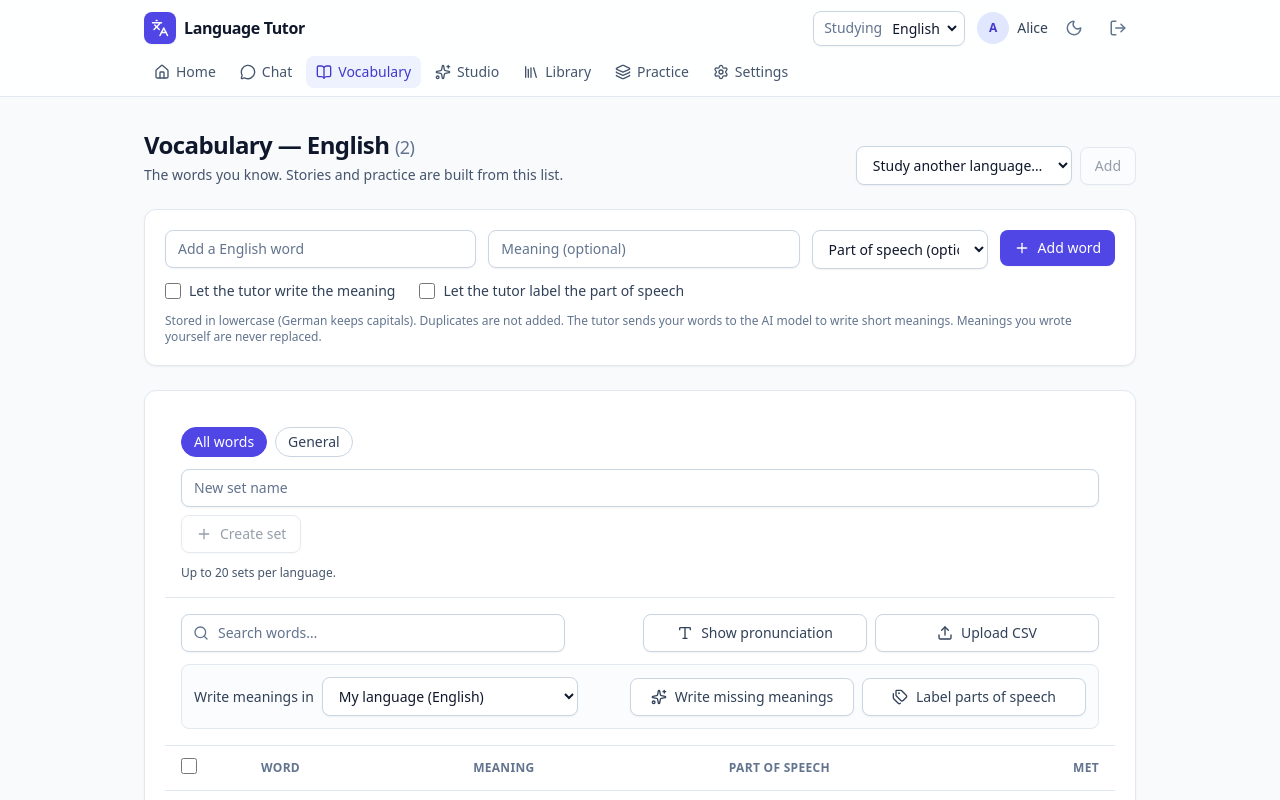
Scenario: vocabulary page › cancelling the confirmation deletes nothing (button and backdrop)
Click the checkbox named "Select all on this page": x=189, y=766 top-left (181, 758), bottom-right (197, 774)
(page scrolled)
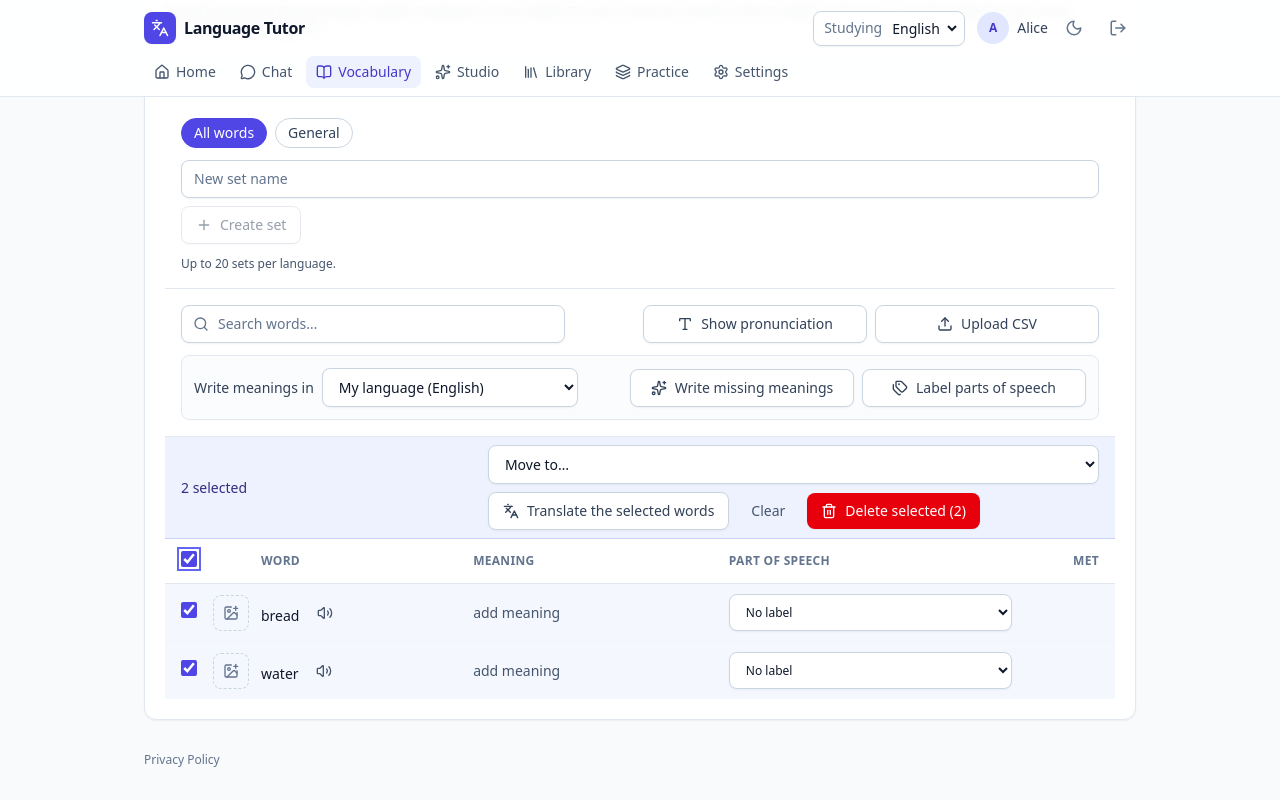
Click the button "Delete selected (2)": x=894, y=511 top-left (807, 493), bottom-right (980, 529)
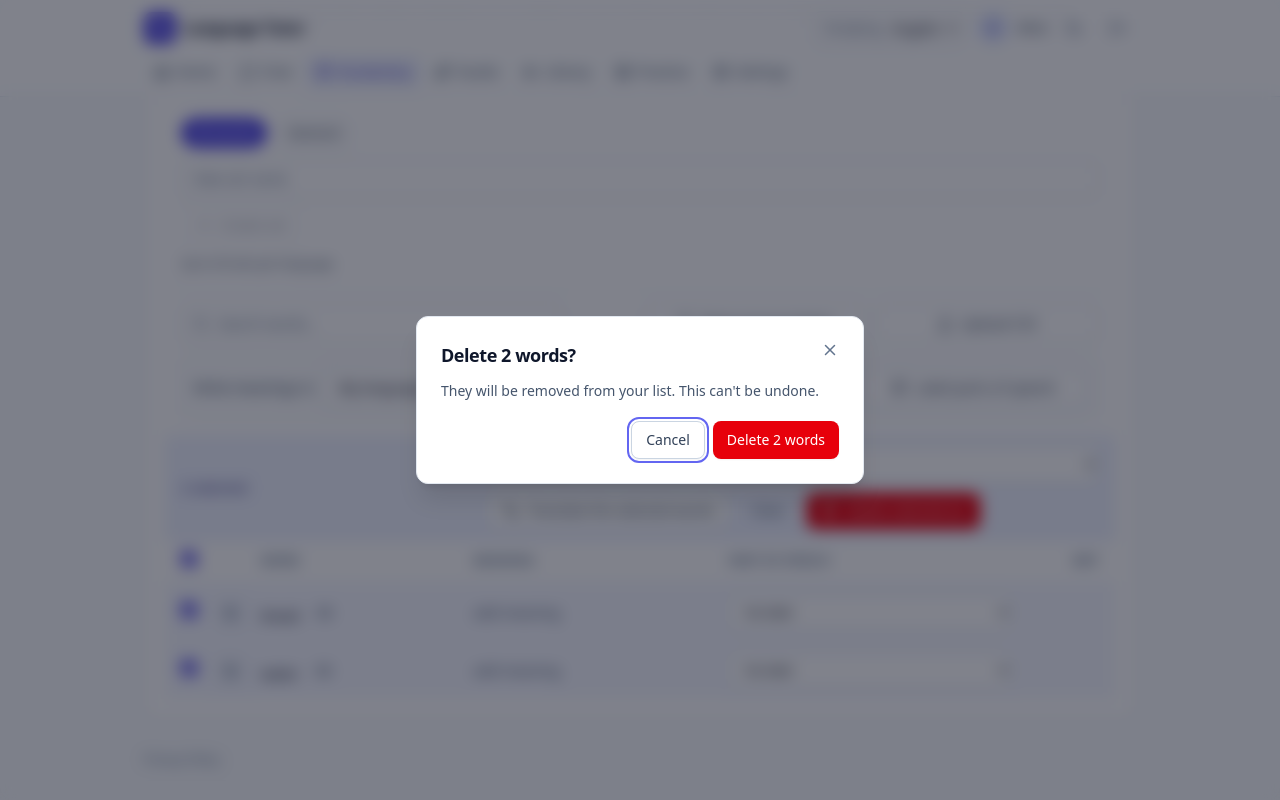
expect the heading "Delete 2 words?" is shown: met, box top-left (441, 341), bottom-right (576, 369)
Click the button "Cancel": x=668, y=440 top-left (631, 421), bottom-right (705, 459)
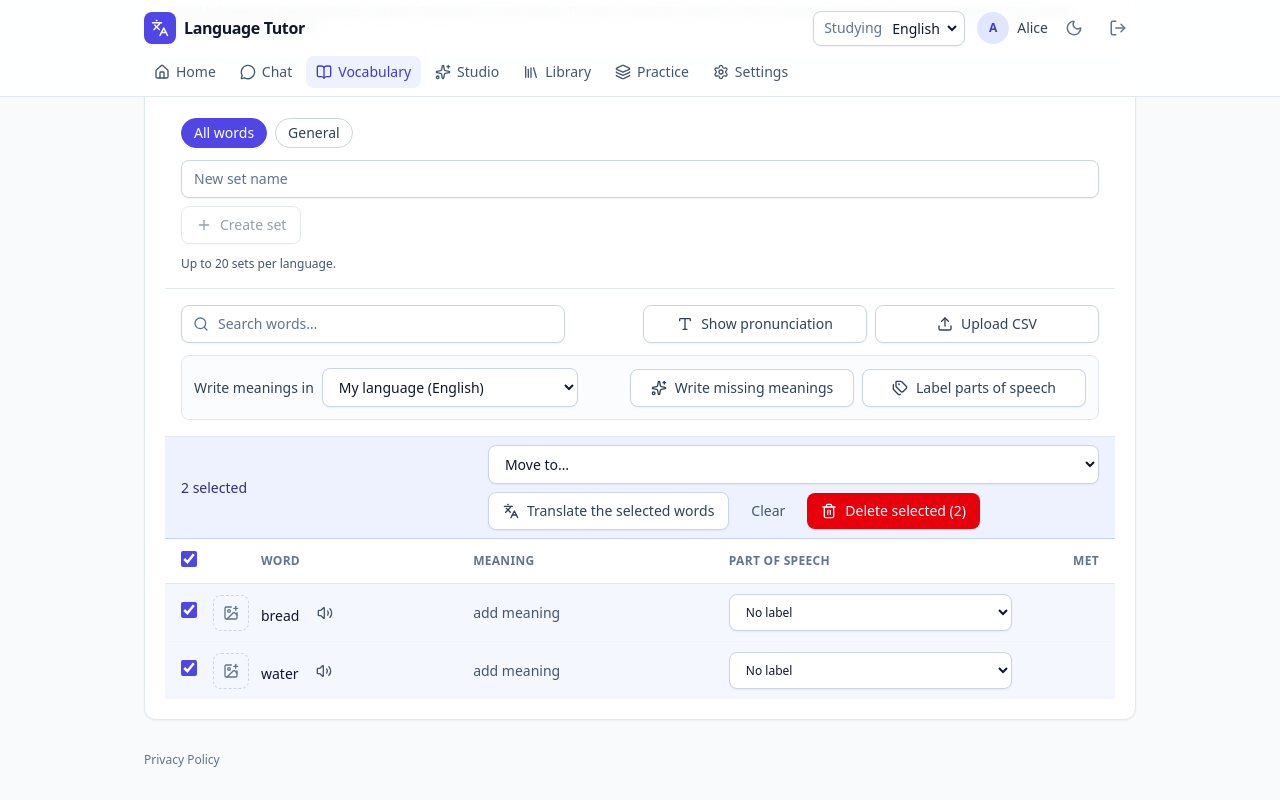
expect the dialog is gone: met
Click the button "Delete selected (2)": x=894, y=511 top-left (807, 493), bottom-right (980, 529)
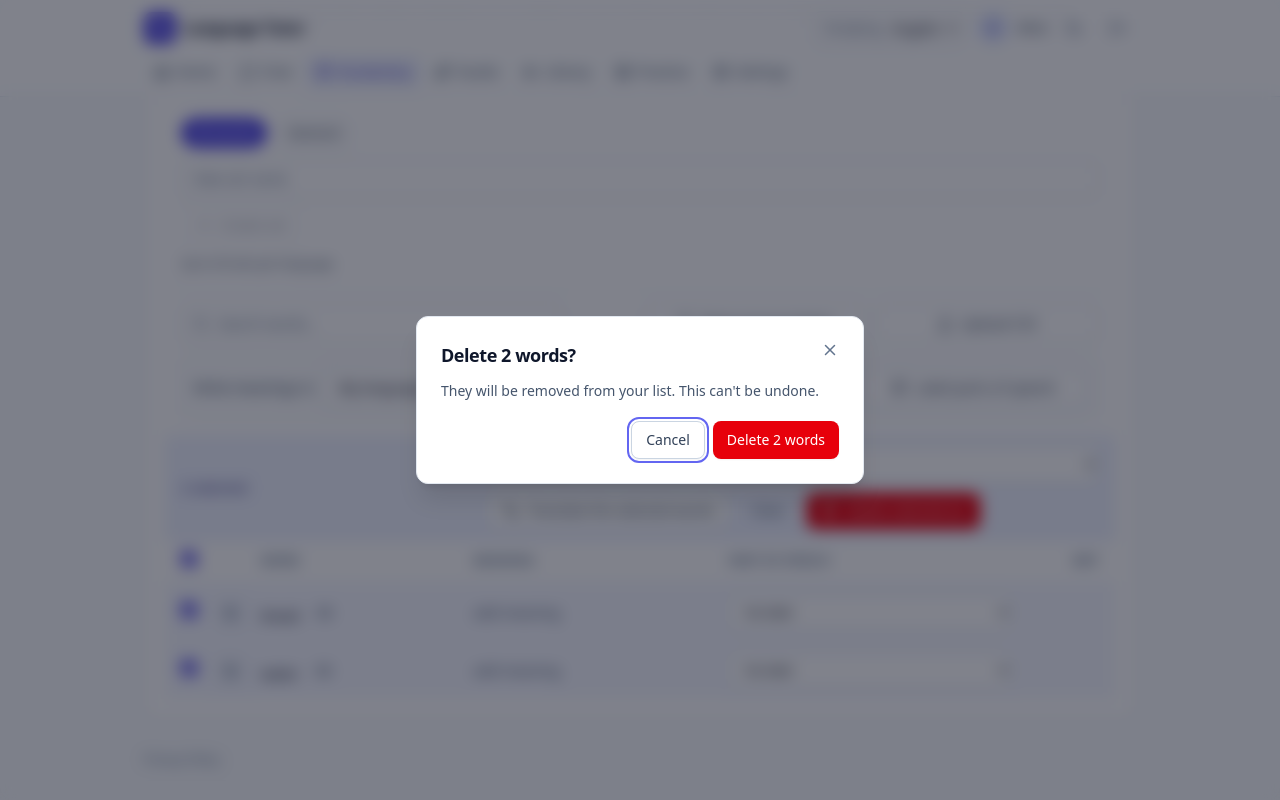
Click the dialog: x=640, y=400 top-left (416, 316), bottom-right (864, 484)
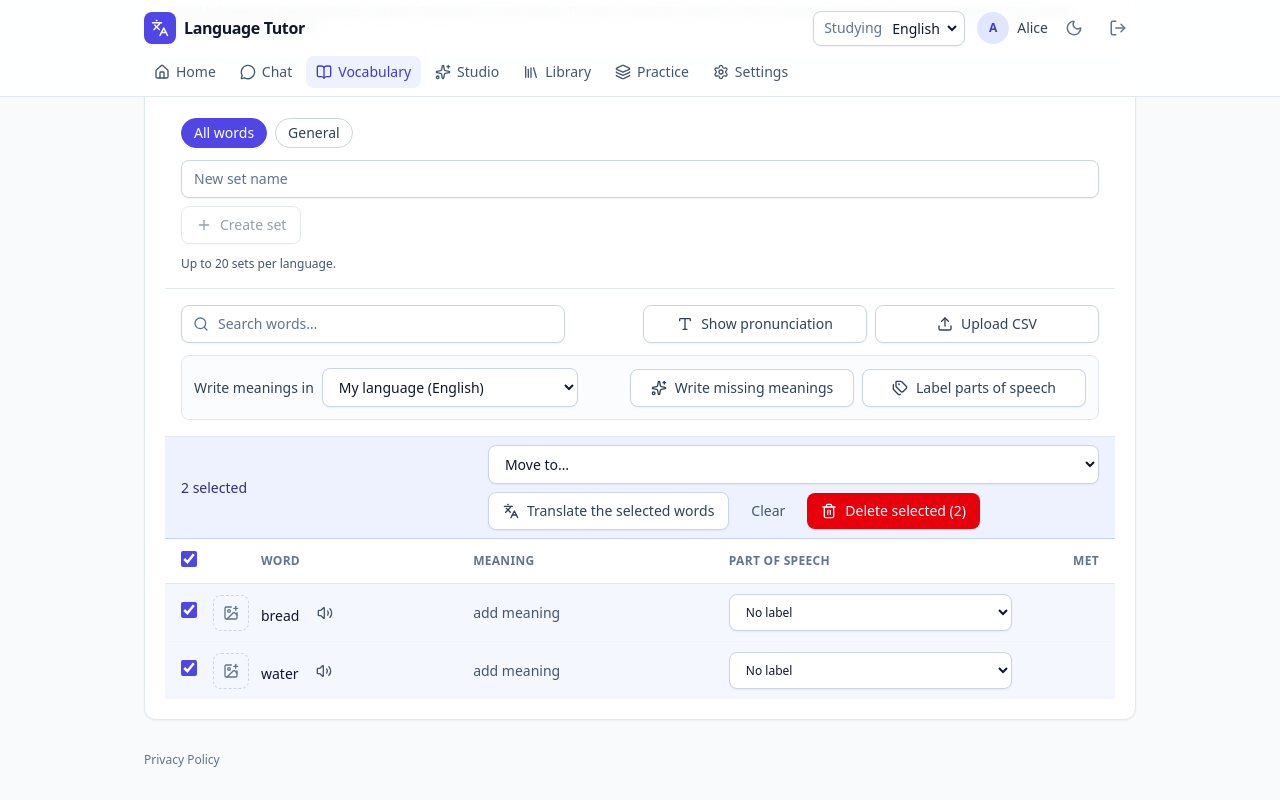
expect the text "bread" is shown: met, box top-left (261, 606), bottom-right (300, 624)
expect the text "2 selected" is shown: met, box top-left (181, 478), bottom-right (247, 498)
expect the dialog is gone: met
